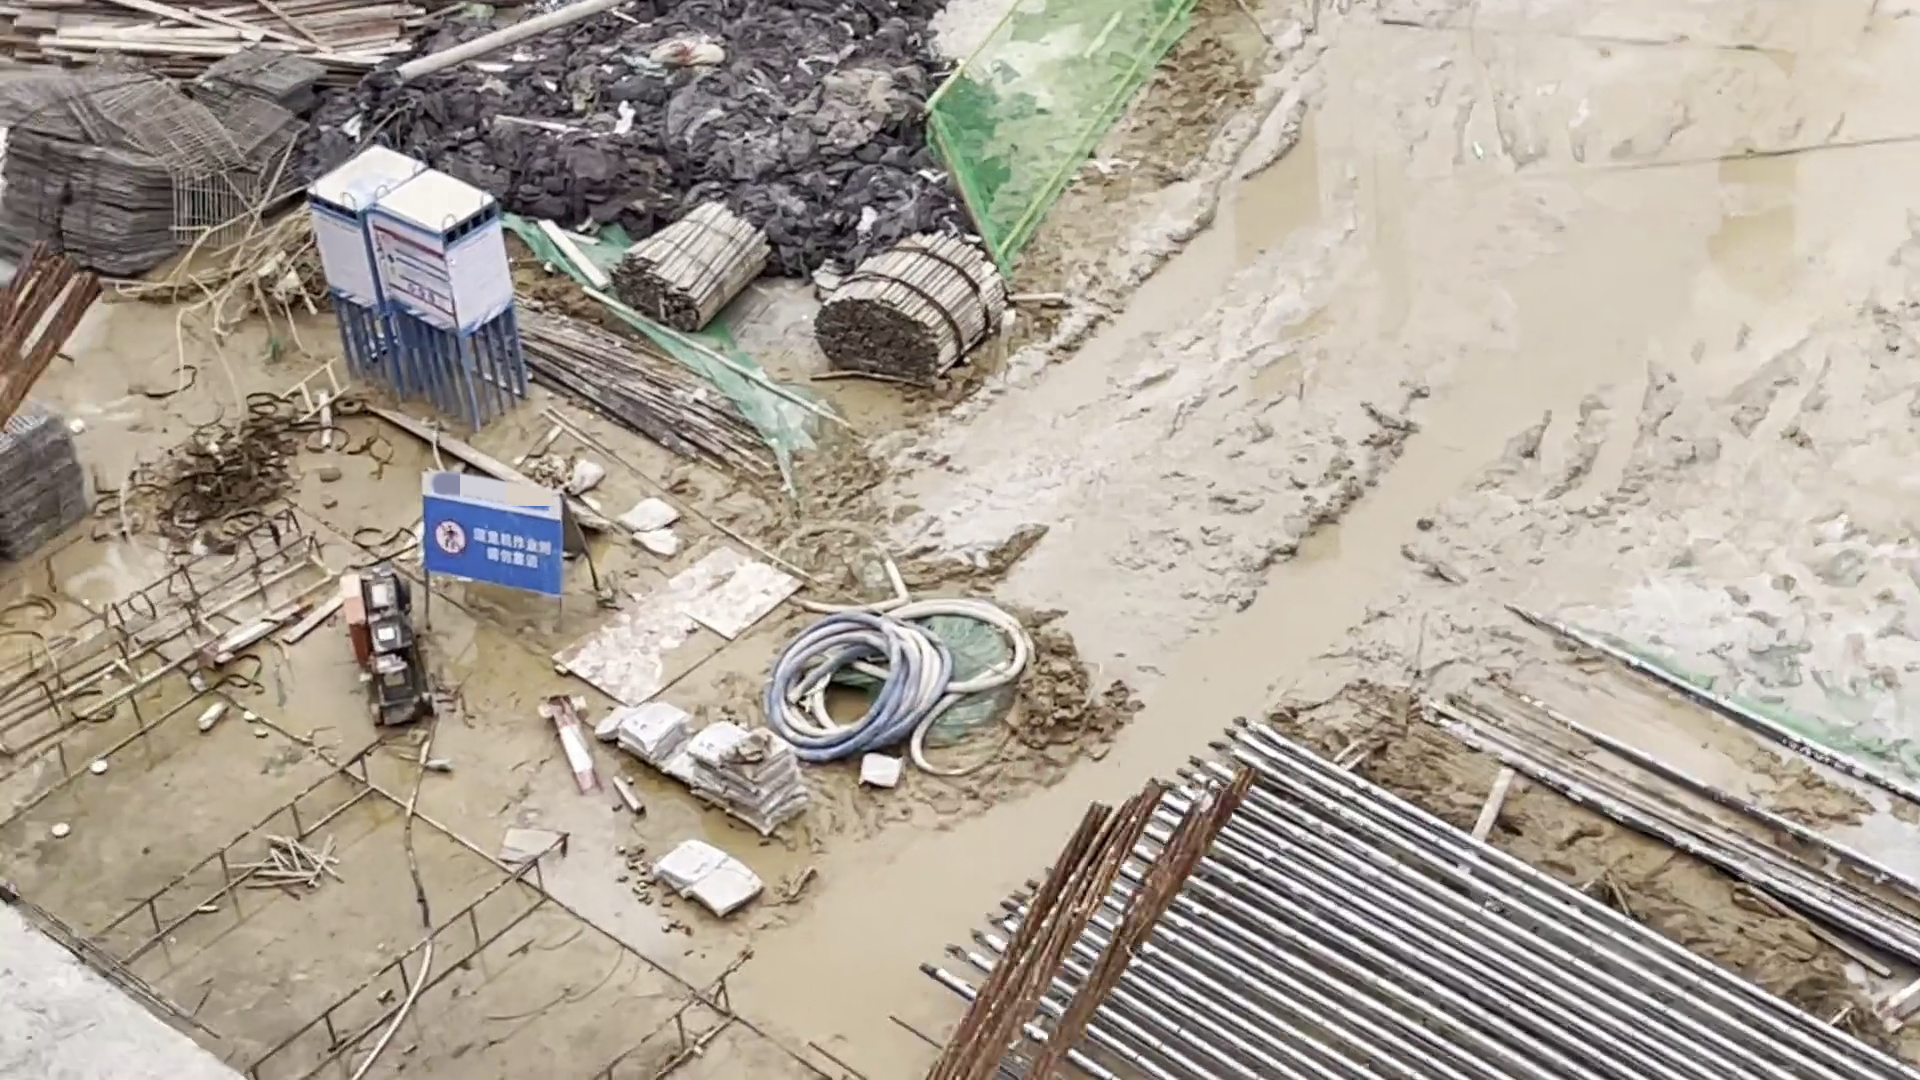slogan: (429, 508, 566, 589)
wood: (807, 228, 1004, 390), (607, 202, 766, 334)
